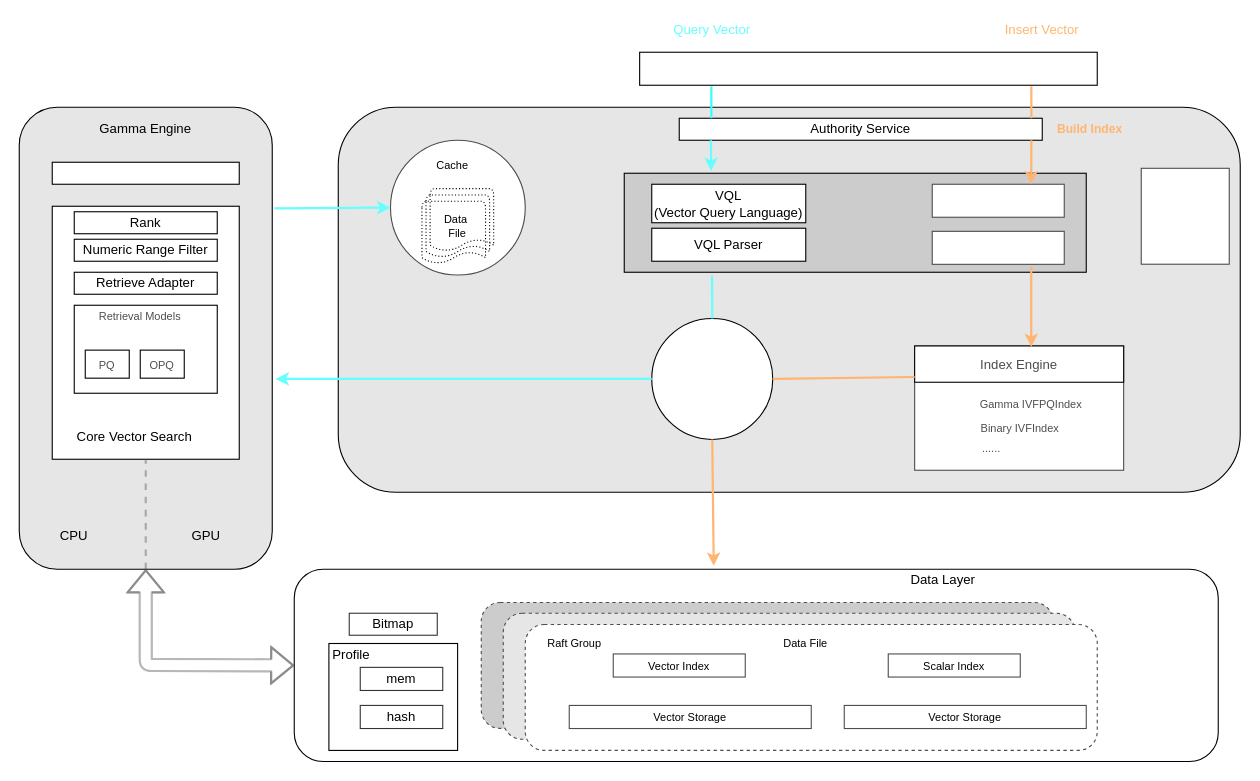
The diagram is 1260 pixels wide and 781 high, and some of its shapes have lost their labels. The shapes that lost their labels are listed below. From the top down, each one's centre as x and y in pixels, then its label:
At (868,68): "Restful API / RPC API".
At (145,172): "Schema Paser".
At (997,200): "Router Service".
At (1184,215): "Moniter Service".
At (997,247): "Metadata Service".
At (712,378): "Meta Data".
